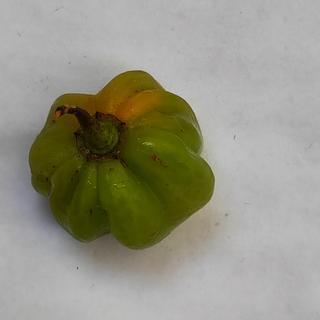Grade-B: (24, 67, 220, 253)
